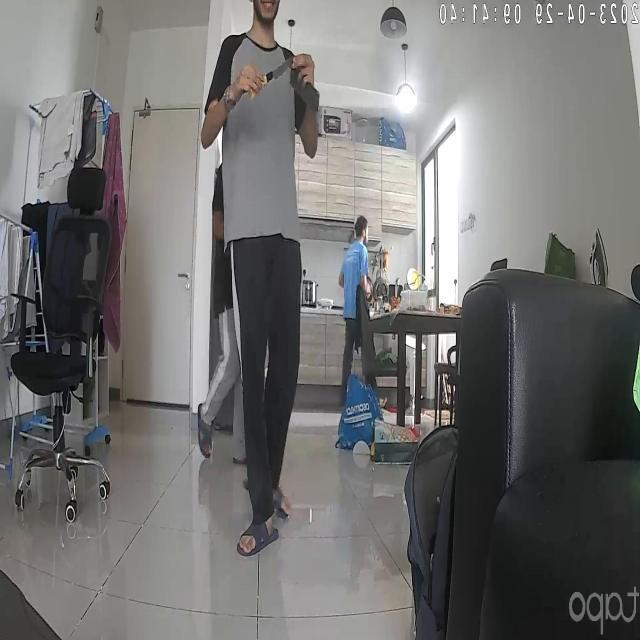Knife: (242, 54, 300, 104)
